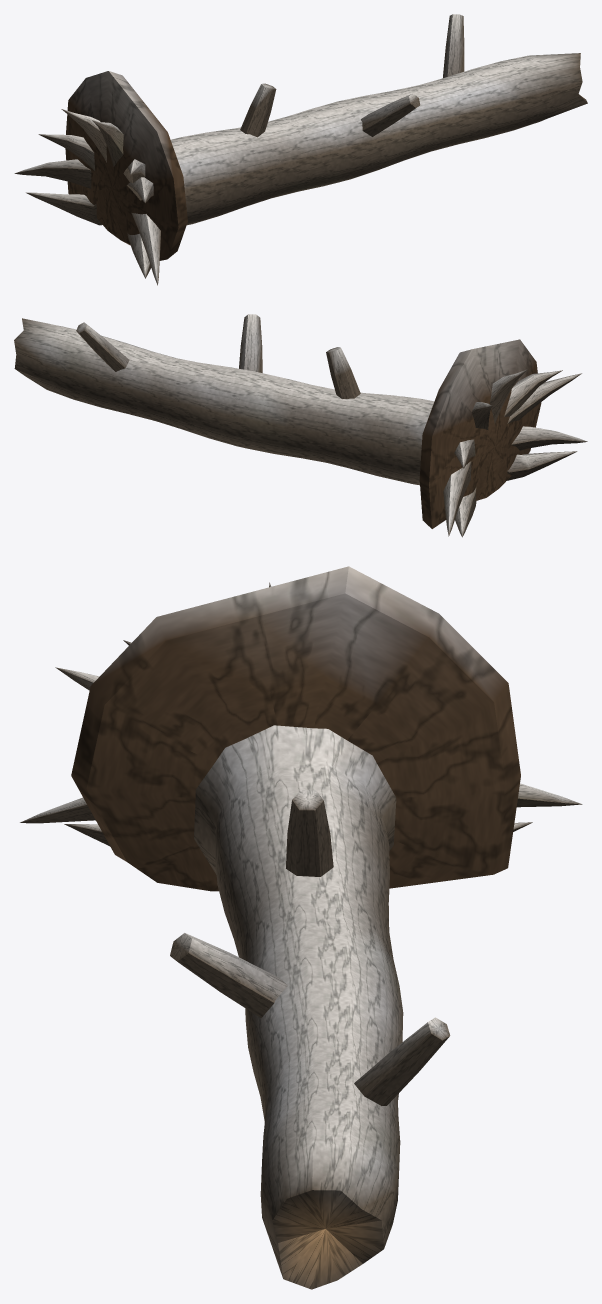
Rendered from fm_trunk_fallen_dead_a.glb.
The picture shows the model from 3 angles, top to bottom: view 1: azimuth 30°, elevation 25°; view 2: azimuth 150°, elevation 25°; view 3: azimuth 270°, elevation 25°; orthographic projection. The views are drawn at different scales.
Visible parts, largest first — view 1: fm_trunk_fallen_dead_a; view 2: fm_trunk_fallen_dead_a; view 3: fm_trunk_fallen_dead_a.
Part boxes in pixels (left/top/right/bottom): fm_trunk_fallen_dead_a: left=14, top=14, right=587, bottom=285; fm_trunk_fallen_dead_a: left=14, top=314, right=587, bottom=537; fm_trunk_fallen_dead_a: left=20, top=566, right=582, bottom=1289.
Size of the model in its own units: 5.34 by 1.68 by 2.6.
Materials: 1 (1 with a texture image).
